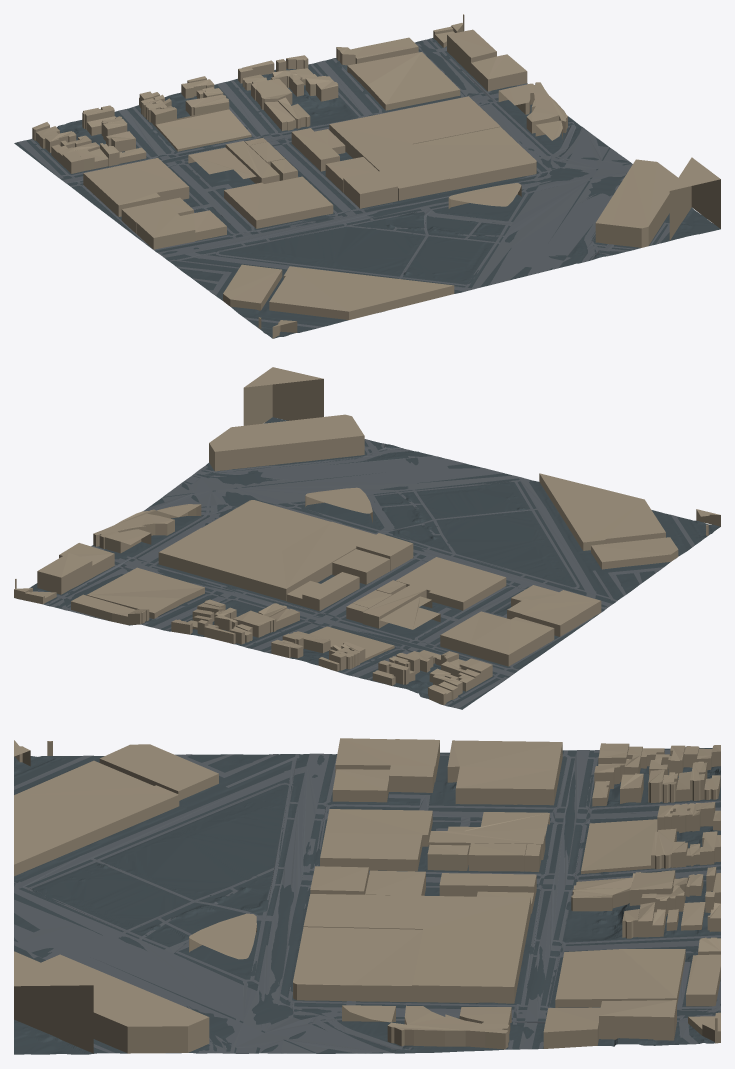
Rendered from epsg26910-1440-10885.lod0.glb.
3 views of the same model, one above another, from view 1: azimuth 30°, elevation 25°; view 2: azimuth 150°, elevation 25°; view 3: azimuth 270°, elevation 25° (orthographic). The views are drawn at different scales.
Parts seen in each view (by area): view 1: epsg26910-1440-10885-lod0; view 2: epsg26910-1440-10885-lod0; view 3: epsg26910-1440-10885-lod0.
Part boxes in pixels (bbox=[...]): epsg26910-1440-10885-lod0: bbox=[14, 14, 720, 338]; epsg26910-1440-10885-lod0: bbox=[14, 367, 720, 709]; epsg26910-1440-10885-lod0: bbox=[14, 738, 720, 1054].
Size of the model in its own units: 384 by 42.32 by 384.
